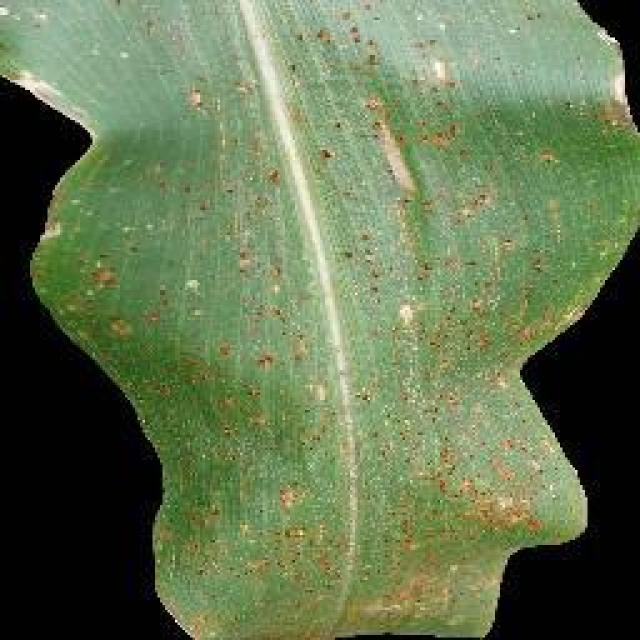Corn Common Rust: (100, 57, 542, 558)
